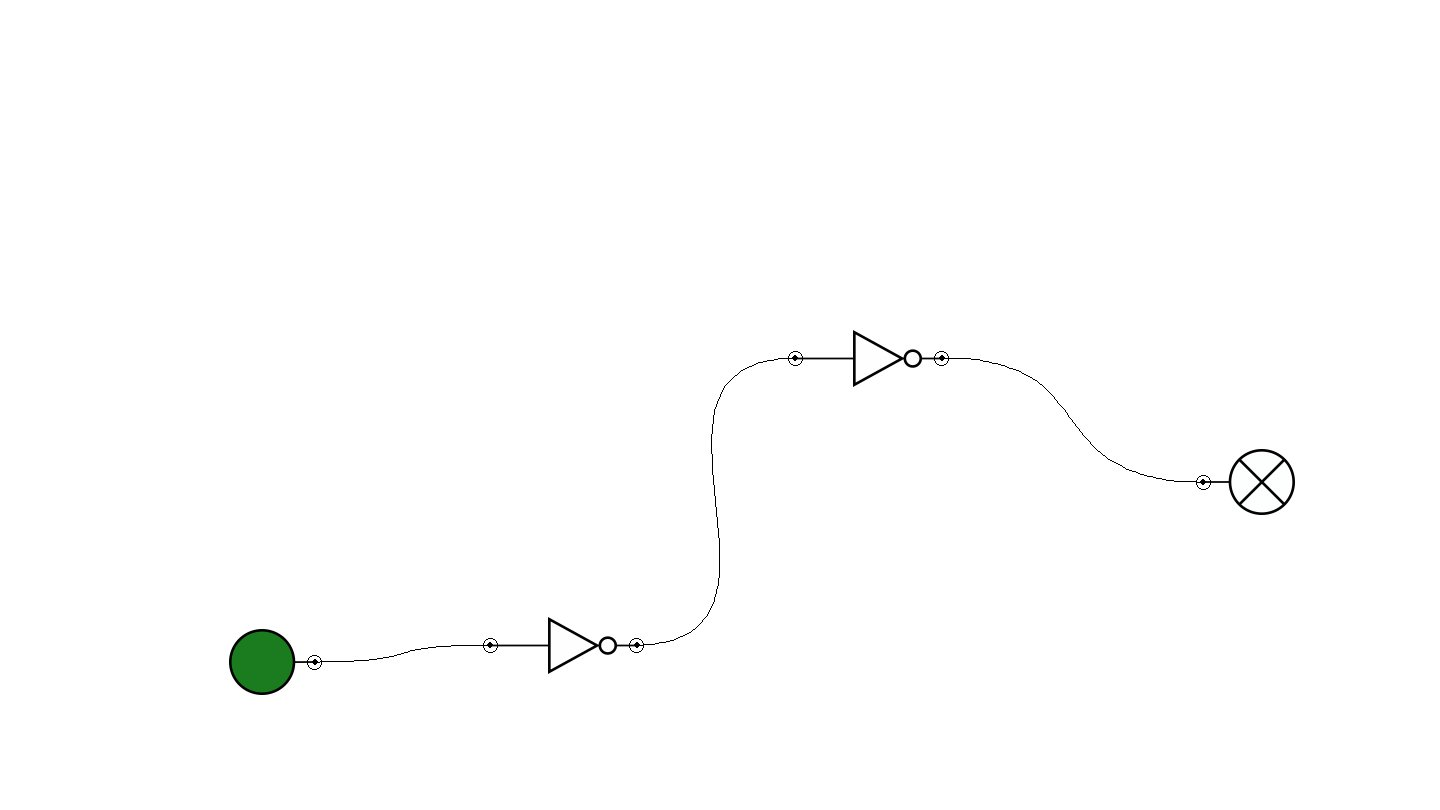bulb: (1196, 449, 1295, 515)
not: (788, 330, 949, 387), (483, 617, 644, 674)
switch_True: (229, 629, 322, 695)
